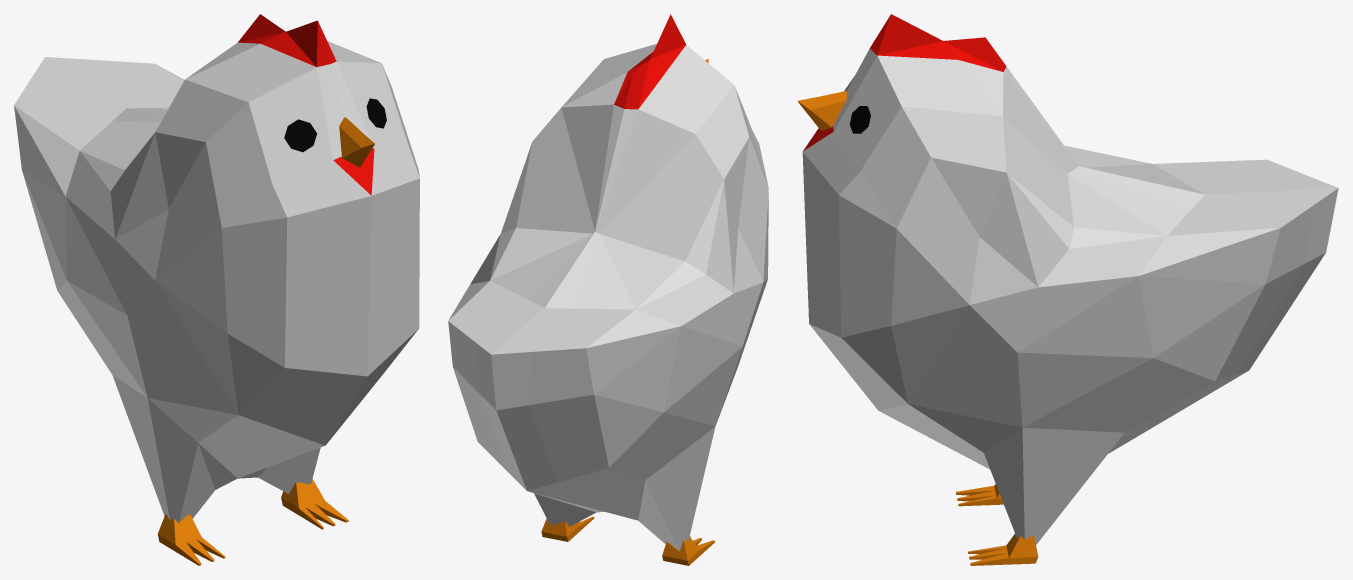
File: low-poly-chicken.fbx
The picture shows the model from 3 angles, left to right: view 1: azimuth 30°, elevation 25°; view 2: azimuth 150°, elevation 25°; view 3: azimuth 270°, elevation 25°; orthographic projection. The views are drawn at different scales.
Visible parts, largest first — view 1: Chicken; view 2: Chicken; view 3: Chicken.
Boxes of the visible parts, x1,y1,x2,y2 form: Chicken: (14, 14, 419, 565); Chicken: (448, 14, 768, 565); Chicken: (797, 14, 1338, 565).
Bounding box in the file's own units: 52.34 × 106 × 100.
